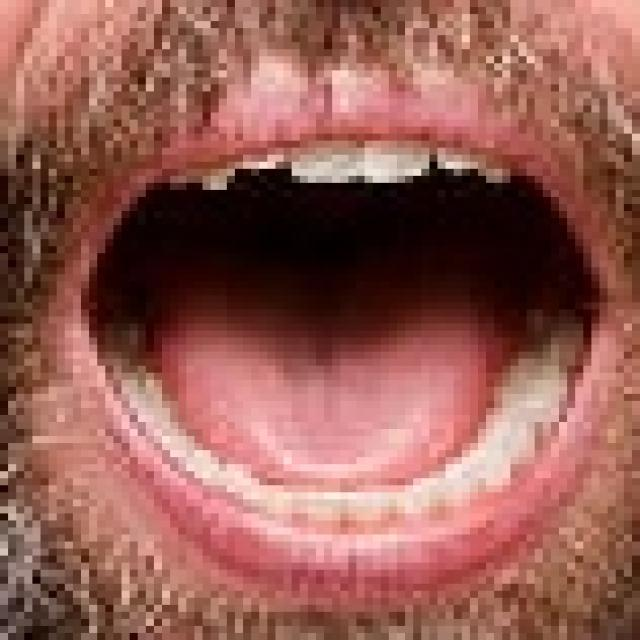open-mouth: (65, 112, 616, 605)
